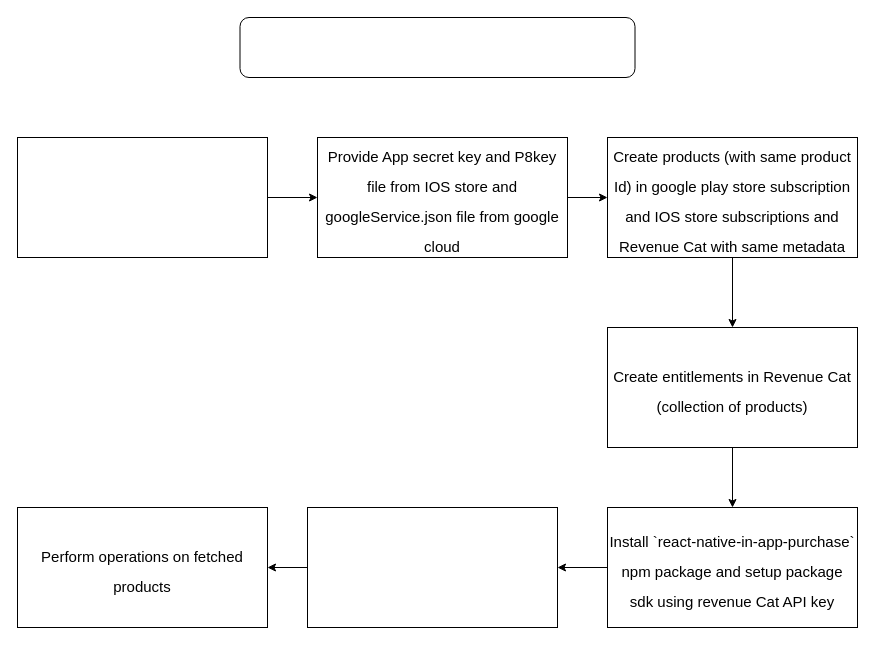
Image size: 875x645. Some labels were removed from this diagram. The shapes that lost their labels are listed below. From the top down, each one's box as (x1, y1, x2, y2) in pixels, then its label:
(239, 16, 635, 78): Revenue Cat Workflow
(16, 136, 268, 258): Create Project in Revenue Cat
(306, 506, 558, 628): Fetch products created in revenue cat using previously installed npm modules
